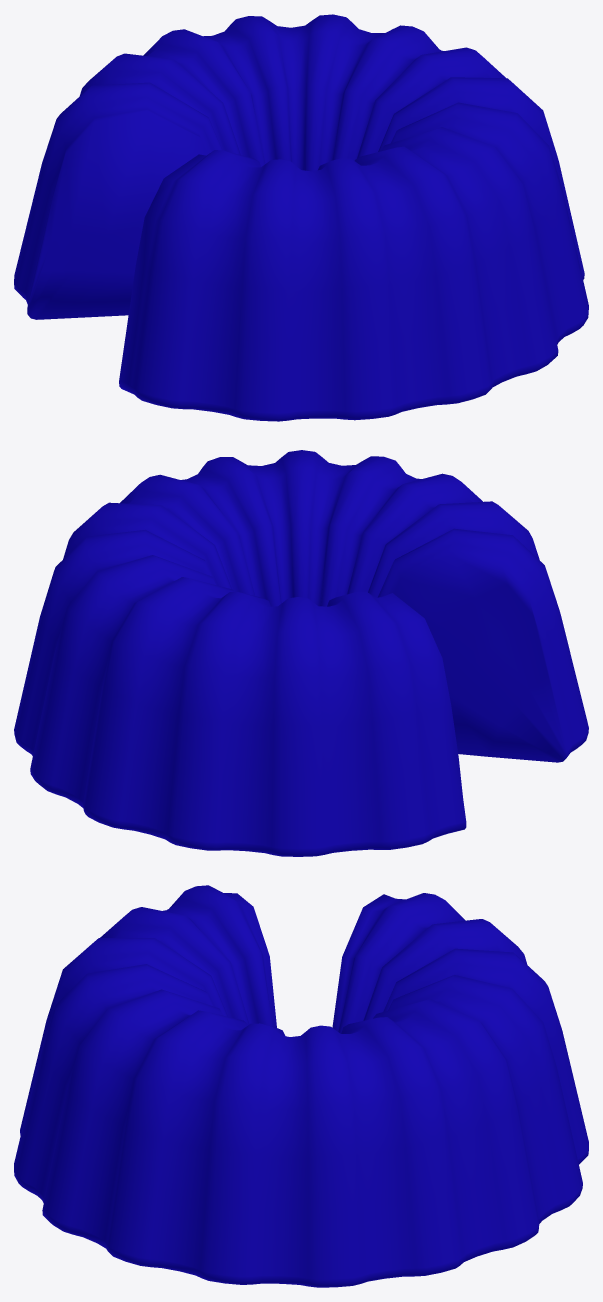
Rendered from jello.glb.
3 renders of one model, top to bottom at view 1: azimuth 30°, elevation 25°; view 2: azimuth 150°, elevation 25°; view 3: azimuth 270°, elevation 25°, orthographic.
Visible parts, largest first — view 1: Cylinder.001; view 2: Cylinder.001; view 3: Cylinder.001.
Boxes of the visible parts, left/top/right/bottom form: Cylinder.001: left=14, top=14, right=588, bottom=421; Cylinder.001: left=14, top=450, right=588, bottom=856; Cylinder.001: left=14, top=885, right=588, bottom=1287.
Bounding box in the file's own units: 18.37 × 7.96 × 19.31.
